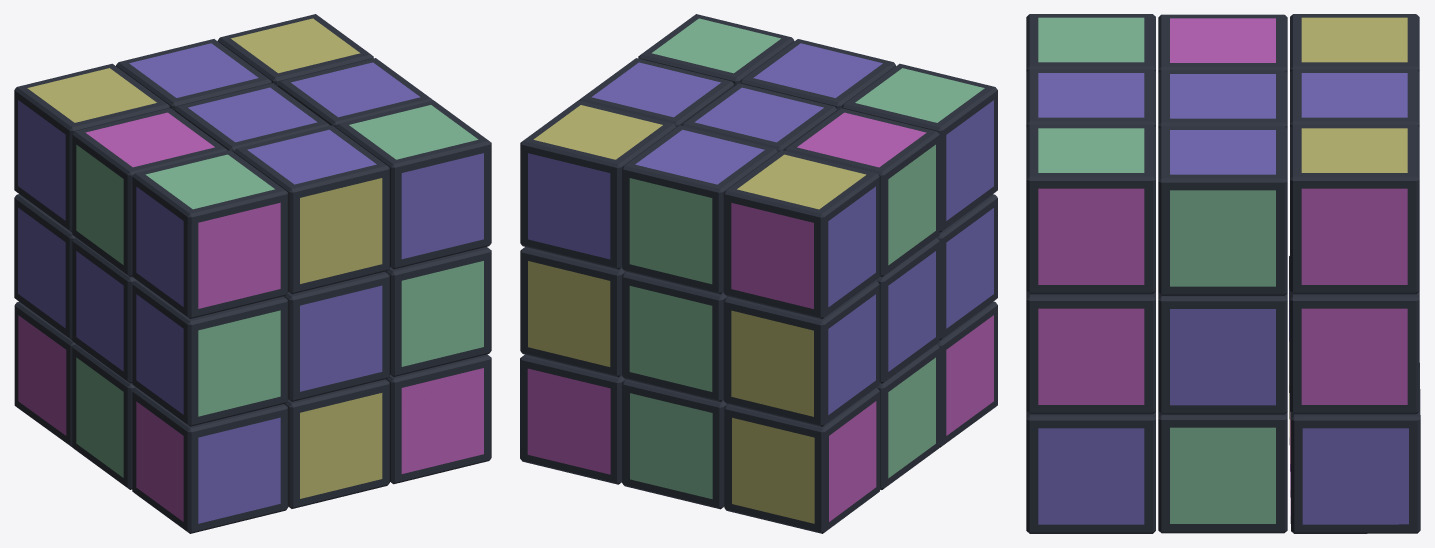
Rendered from rubix.gltf.
The picture shows the model from 3 angles, left to right: view 1: azimuth 30°, elevation 25°; view 2: azimuth 150°, elevation 25°; view 3: azimuth 270°, elevation 25°; orthographic projection. The views are drawn at different scales.
Visible parts, largest first — view 1: rubixCube; view 2: rubixCube; view 3: rubixCube.
Boxes of the visible parts, bbox=[...] form: rubixCube: bbox=[14, 14, 491, 533]; rubixCube: bbox=[520, 14, 997, 533]; rubixCube: bbox=[1026, 14, 1420, 533].
Size of the model in its own units: 2.02 by 2.02 by 2.03.
